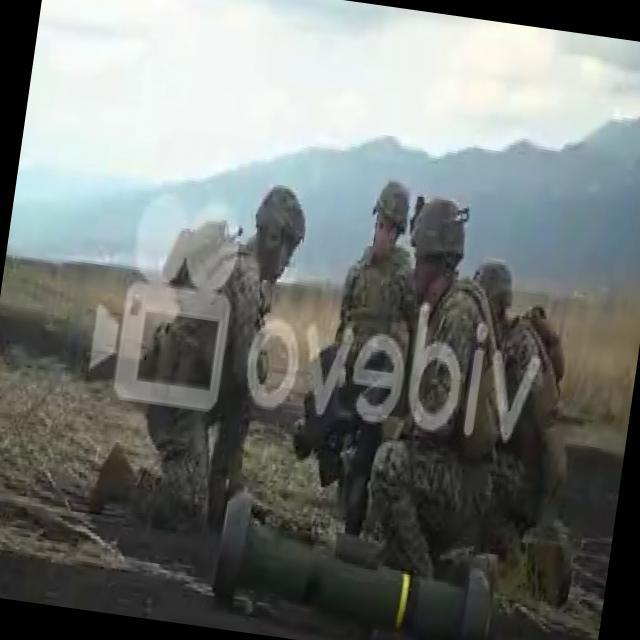rocket: (214, 488, 507, 640)
